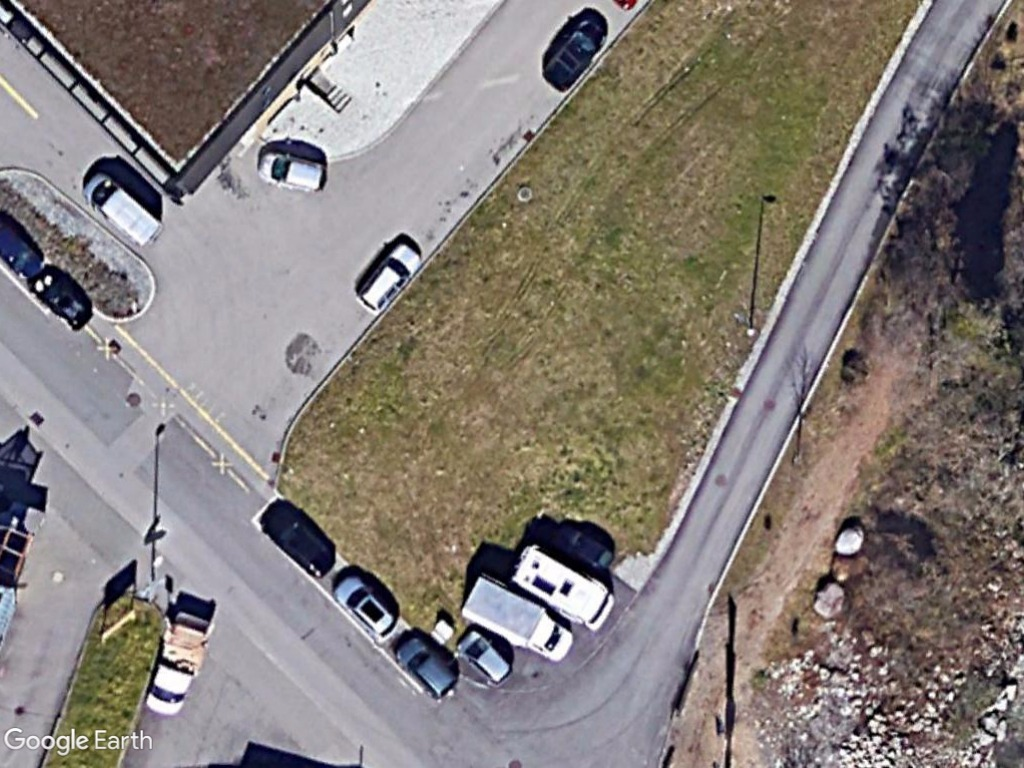car: (257, 497, 338, 581), (352, 230, 423, 318), (538, 14, 612, 94), (330, 570, 403, 646), (390, 628, 462, 701), (253, 142, 333, 198), (458, 627, 516, 685)
truck: (455, 570, 581, 666)
van: (79, 168, 165, 252)
